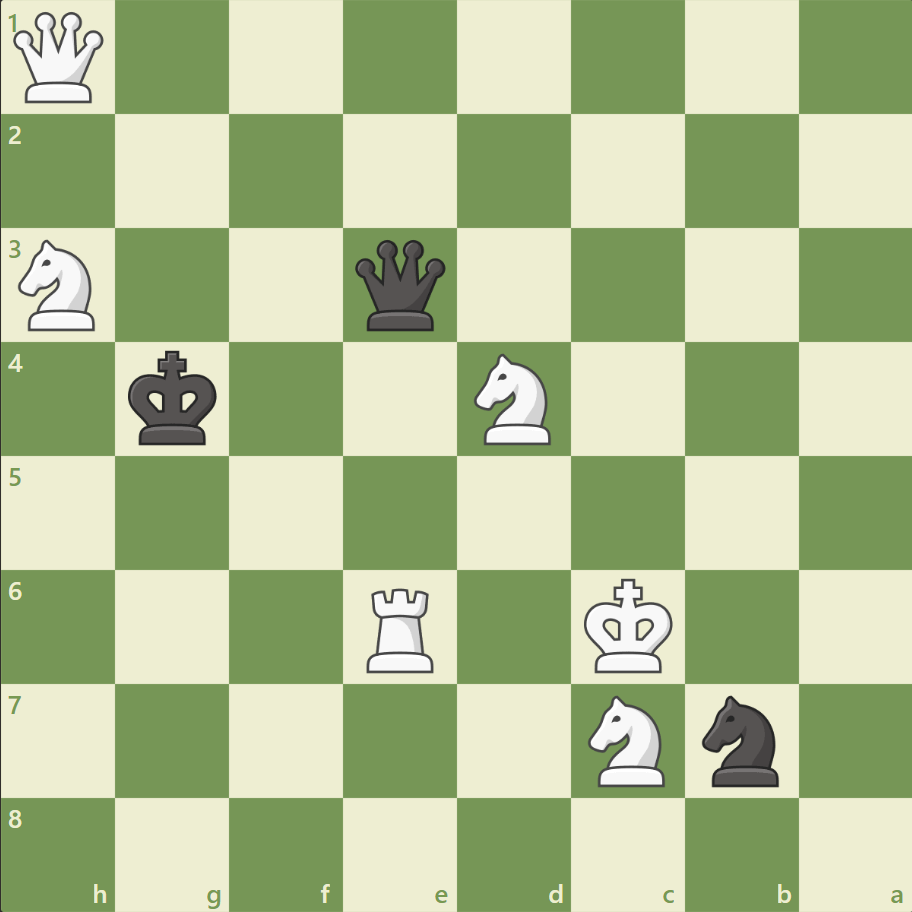K: (579, 571, 679, 679)
N: (579, 688, 676, 791), (11, 234, 108, 337), (465, 348, 562, 450)
Q: (10, 9, 109, 108)
R: (360, 579, 442, 676)
k: (124, 344, 224, 452)
n: (692, 688, 789, 791)
q: (351, 236, 450, 335)
